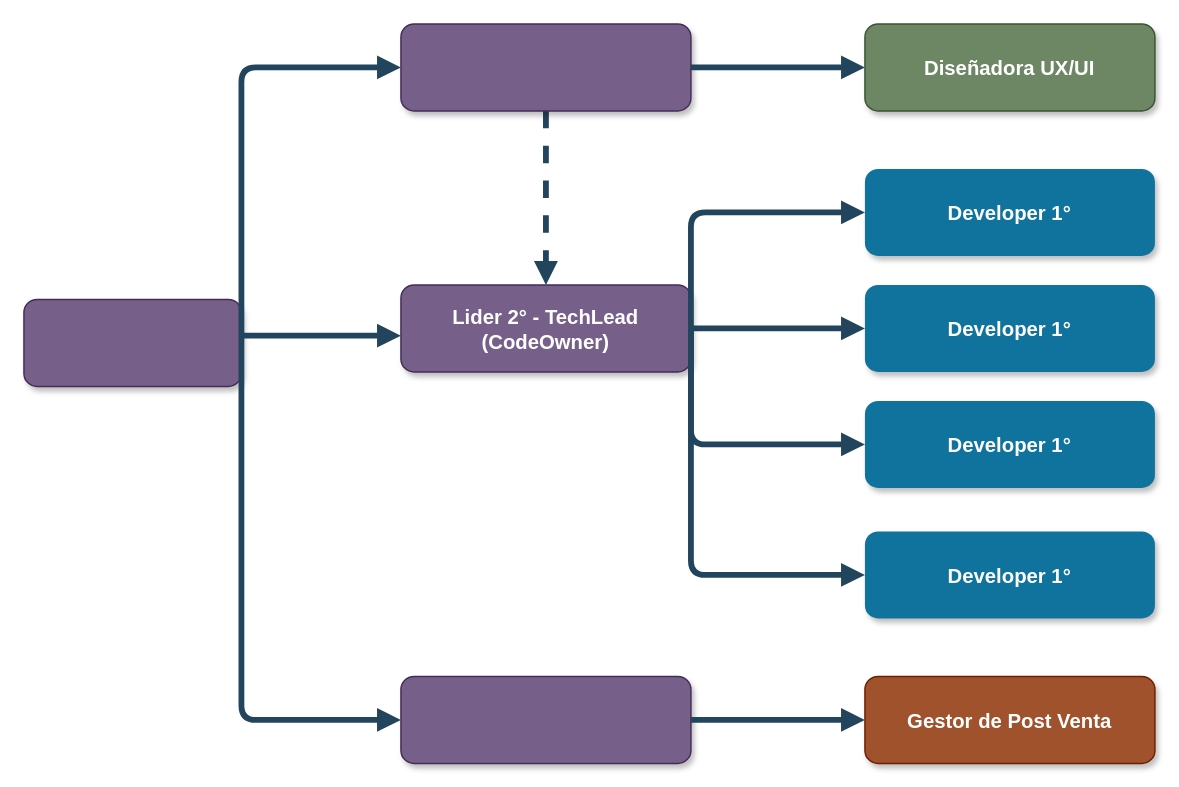
The diagram is 1179 pixels wide and 787 high, and some of its shapes have lost their labels. Each missing label, with the centre of its shape:
"Lider 1°" belongs at (x=133, y=344).
"Lider 2 ° - TechLead Post venta" belongs at (x=547, y=721).
"Lider 2° - Ventas (ProductOwner)" belongs at (x=547, y=69).
